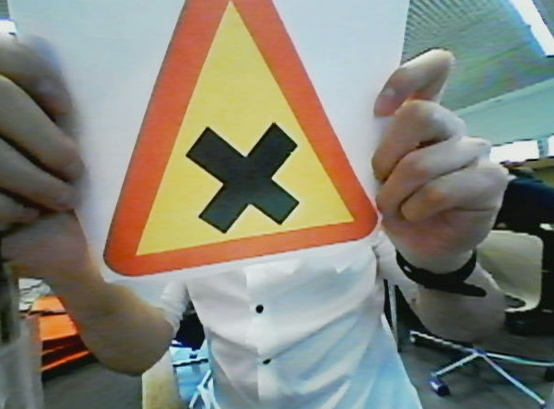junction: (88, 2, 381, 271)
